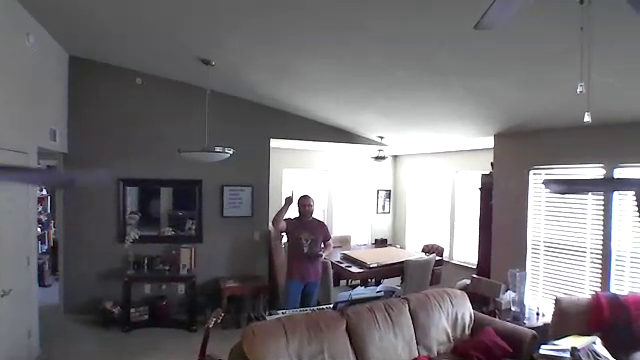up: (280, 187, 296, 206)
